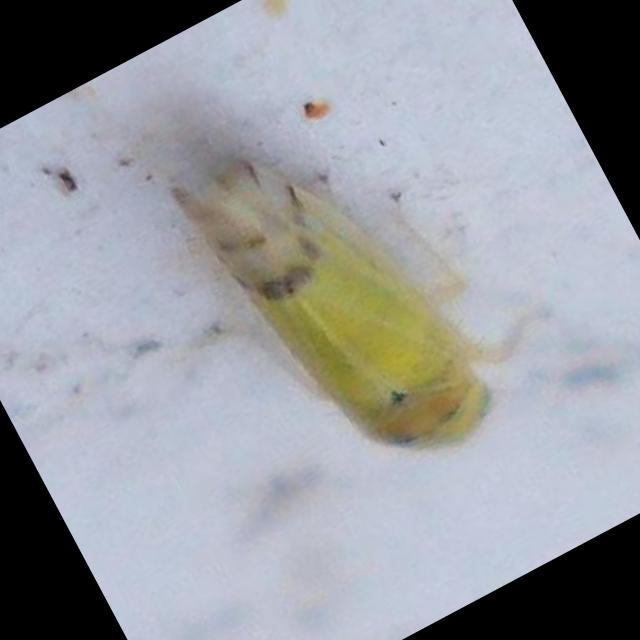green-leafhopper: (156, 65, 552, 514)
